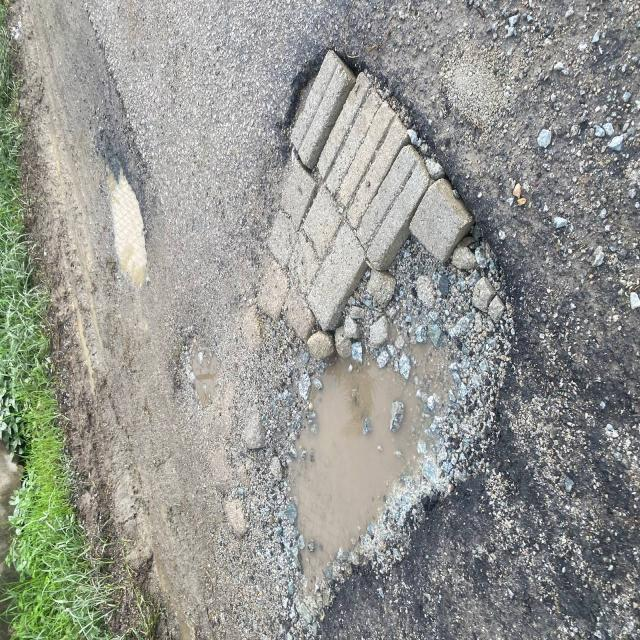pothole: (223, 30, 579, 640), (60, 134, 206, 304)
